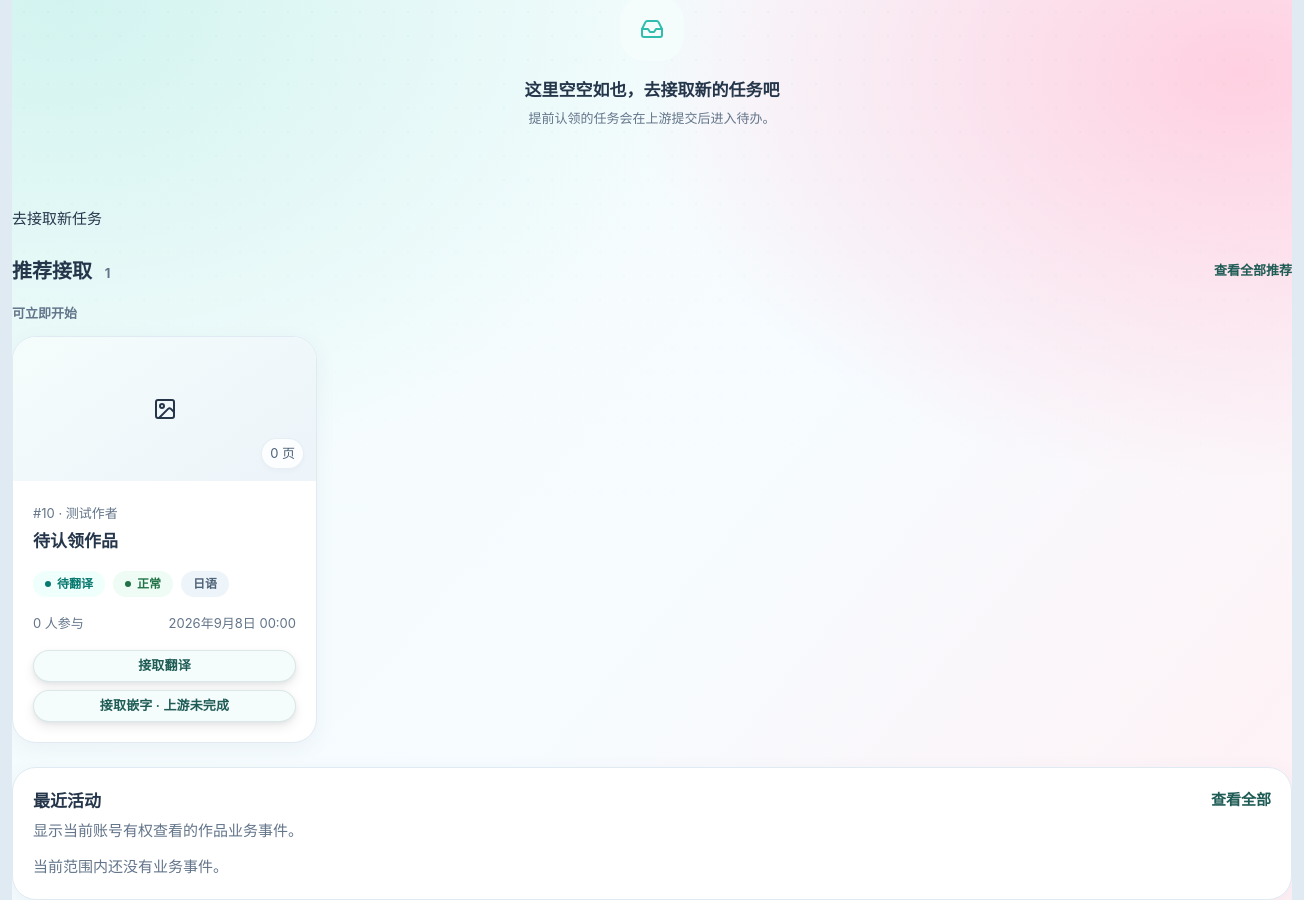
Test: dashboard shows personal tasks and distinct role recommendations, refreshing both after a claim
(page scrolled)
Expected: the text "这里空空如也，去接取新的任务吧" is shown, [524,77,780,104]
Expected: the heading "可立即开始" is shown, [12,305,77,321]
Click the button "接取翻译" at (164, 666), box [33,650,296,682]
(page scrolled)
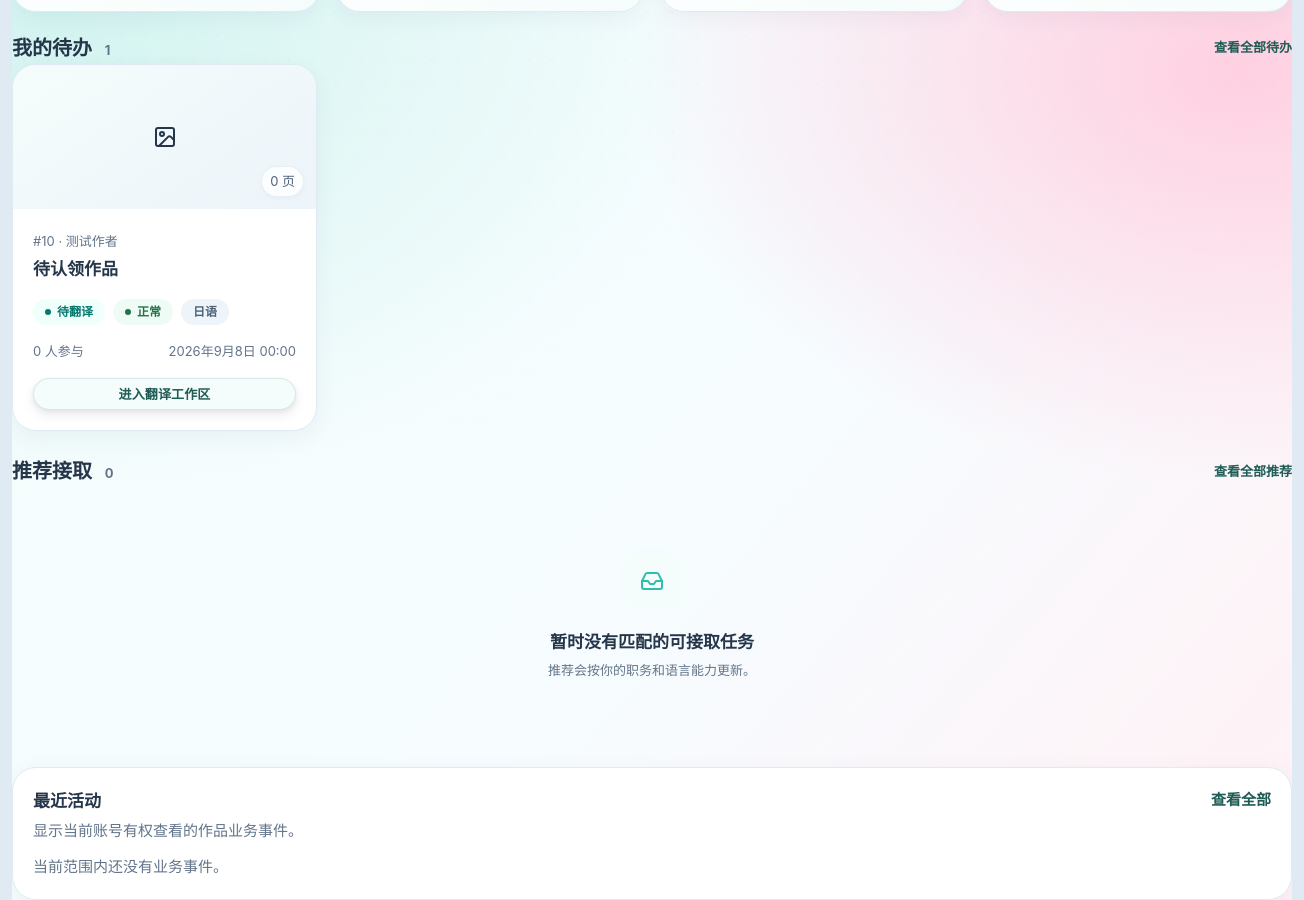
Now the link "进入翻译工作区" is shown, box [33,378,296,410]
Now the text "暂时没有匹配的可接取任务" is shown, box [550,629,754,656]
